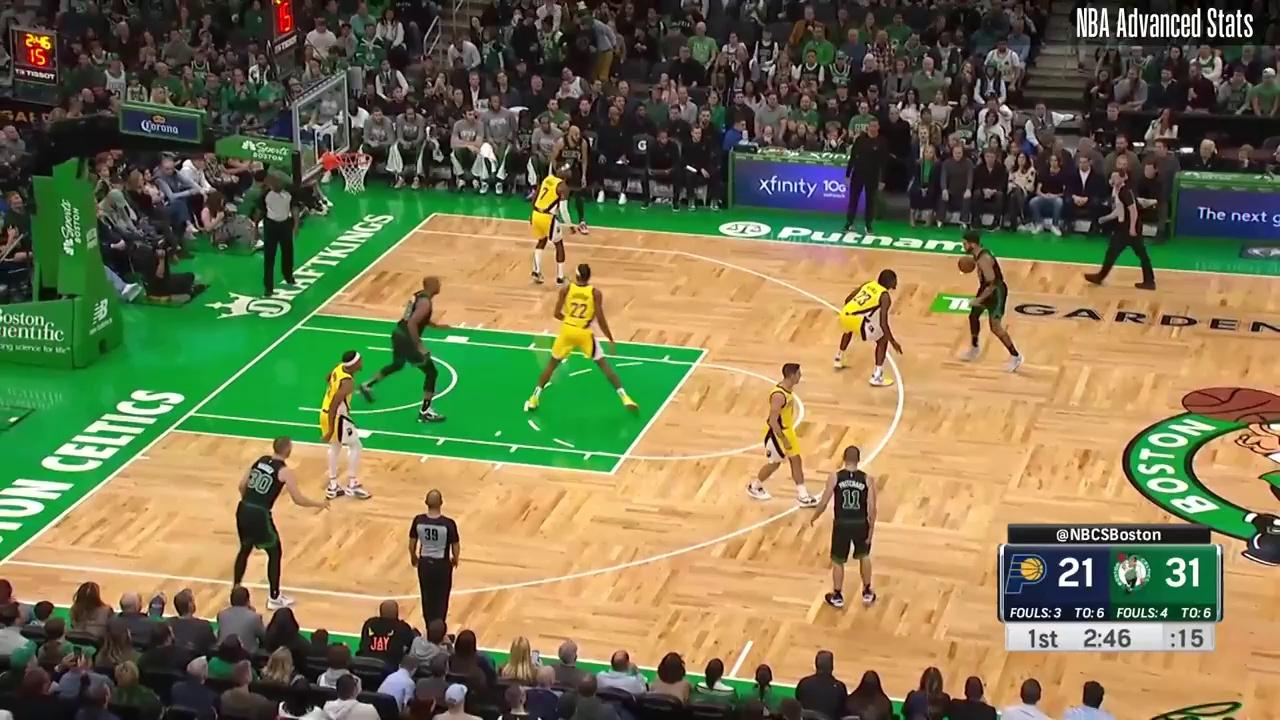3_dx: (411, 226, 422, 235)
3_sx: (0, 554, 10, 568)
b_dx: (430, 209, 442, 219)
free_adx: (701, 346, 713, 356)
free_asx: (606, 468, 617, 478)
free_bdx: (309, 309, 320, 318)
free_bsx: (165, 425, 176, 435)
mid_dx: (957, 270, 964, 277)
mid_sx: (744, 636, 757, 647)
referee: (1085, 169, 1157, 292), (407, 489, 461, 647), (258, 176, 299, 294)
team: (233, 434, 326, 612), (362, 277, 450, 423), (817, 446, 878, 607), (959, 231, 1024, 375), (549, 125, 592, 234)
team1: (524, 260, 640, 414), (746, 361, 818, 509), (318, 350, 374, 500), (836, 267, 902, 388), (529, 160, 571, 285)
timer: (1081, 620, 1135, 654)
